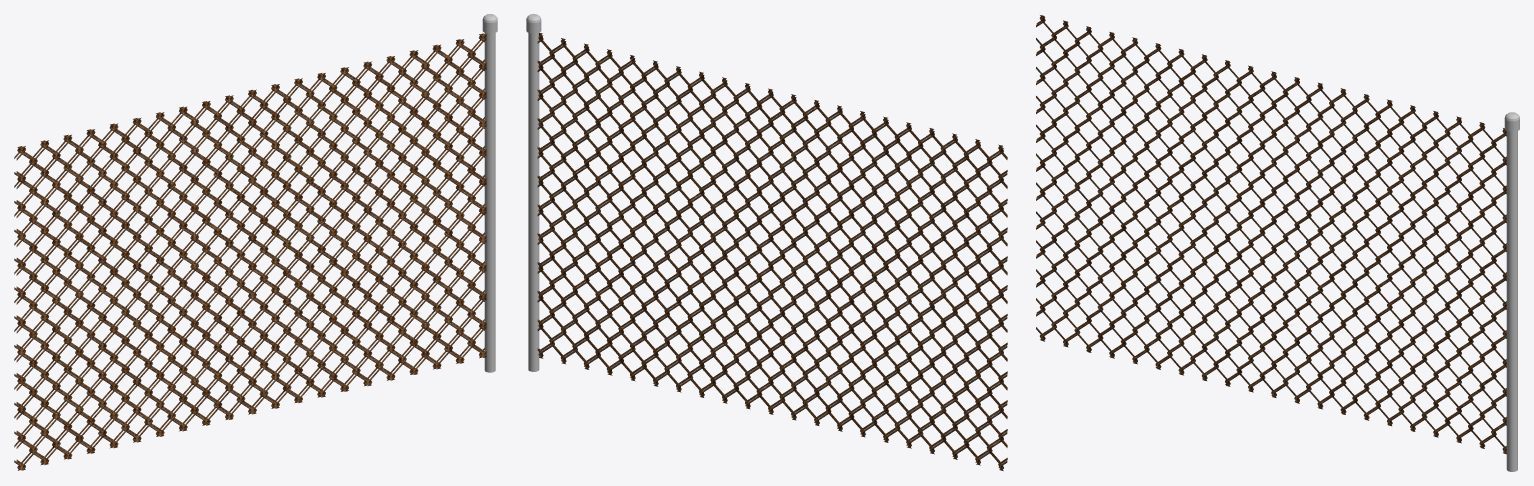
File: fence.fbx
3 renders of one model, left to right at view 1: azimuth 30°, elevation 25°; view 2: azimuth 150°, elevation 25°; view 3: azimuth 330°, elevation 25°, orthographic.
Visible parts, largest first — view 1: fenceend; view 2: fenceend; view 3: fenceend.
Part boxes in pixels (box(x1,y1,x2,y2)): fenceend: box(14, 14, 497, 470); fenceend: box(526, 14, 1007, 470); fenceend: box(1036, 15, 1519, 471).
Bounding box in the file's own units: 27.63 × 19.44 × 0.7571.
